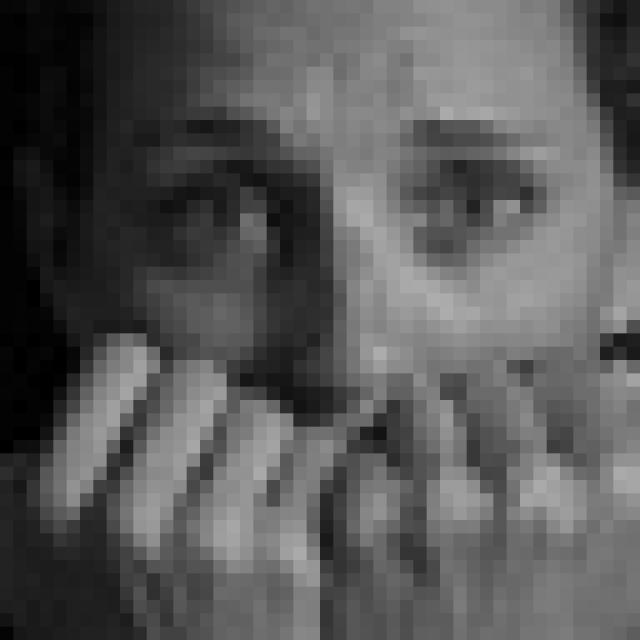fear: (114, 108, 572, 553)
